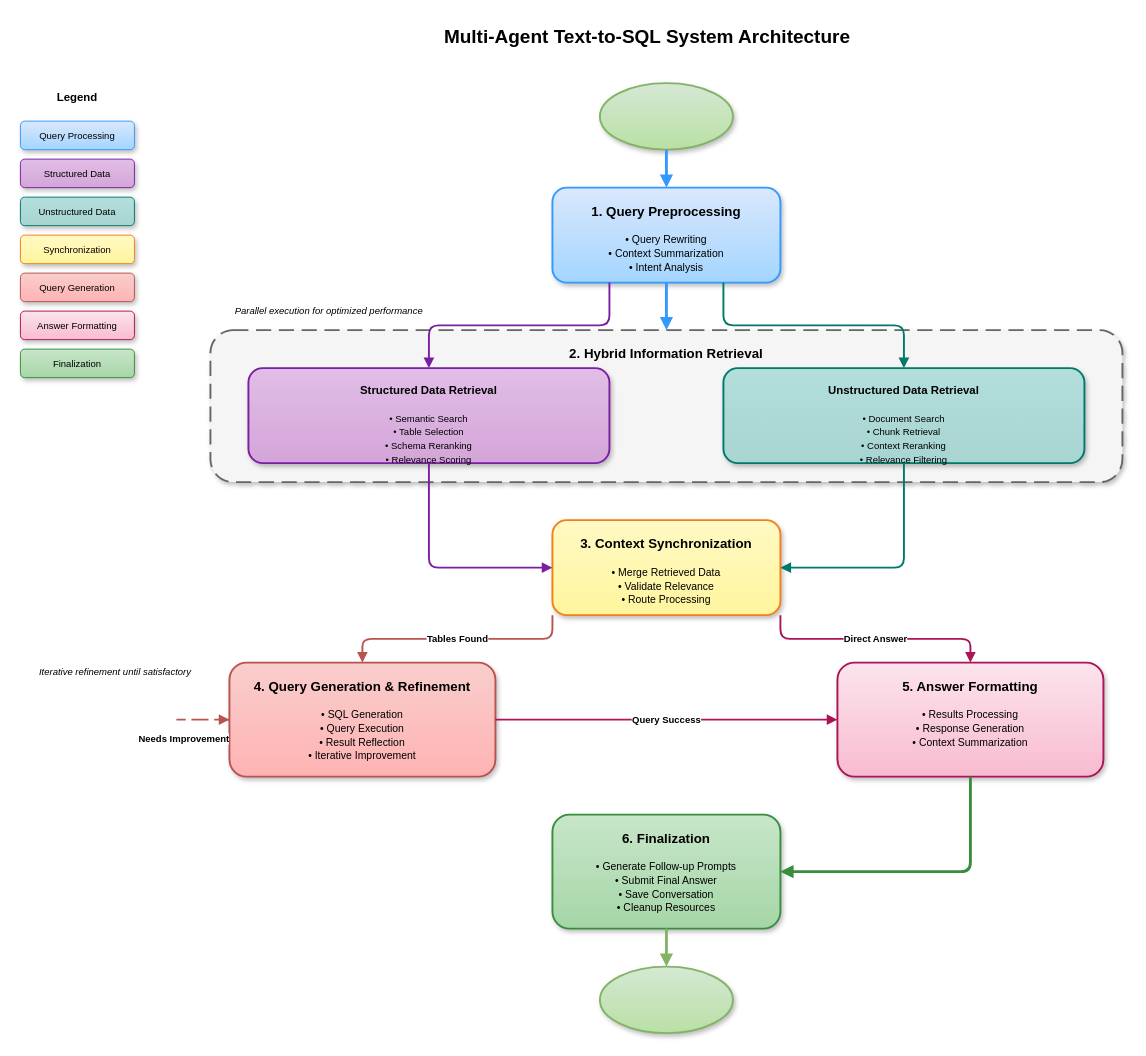
Some shapes in this 1146 by 1056 pixel diagram are drawn without their labels. Each missing label, with the centre of its shape:
"Final Answer" belongs at point 667,1000.
"User Query" belongs at point 667,117.
